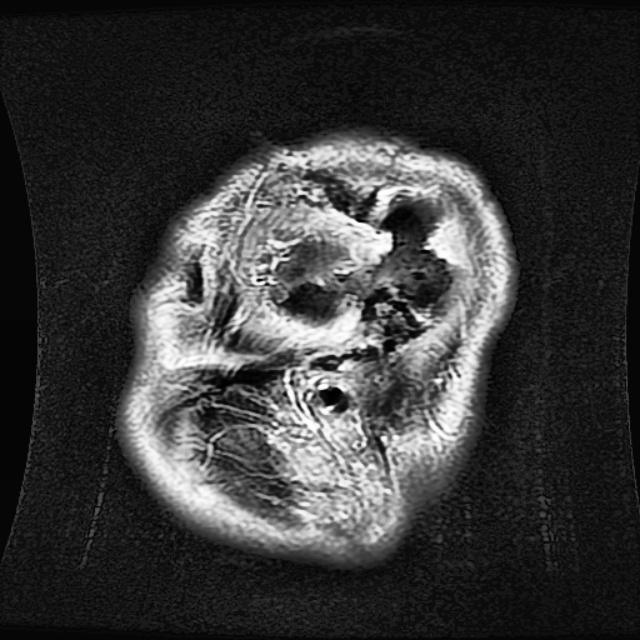Meningioma: (267, 207, 453, 339)
